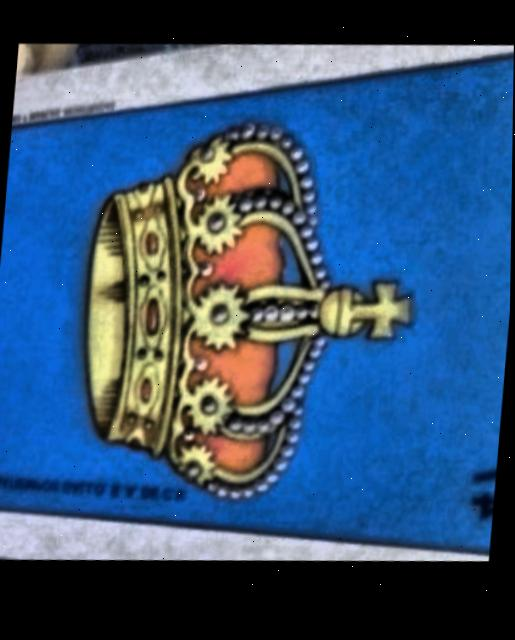La Corona: (0, 68, 514, 557)
